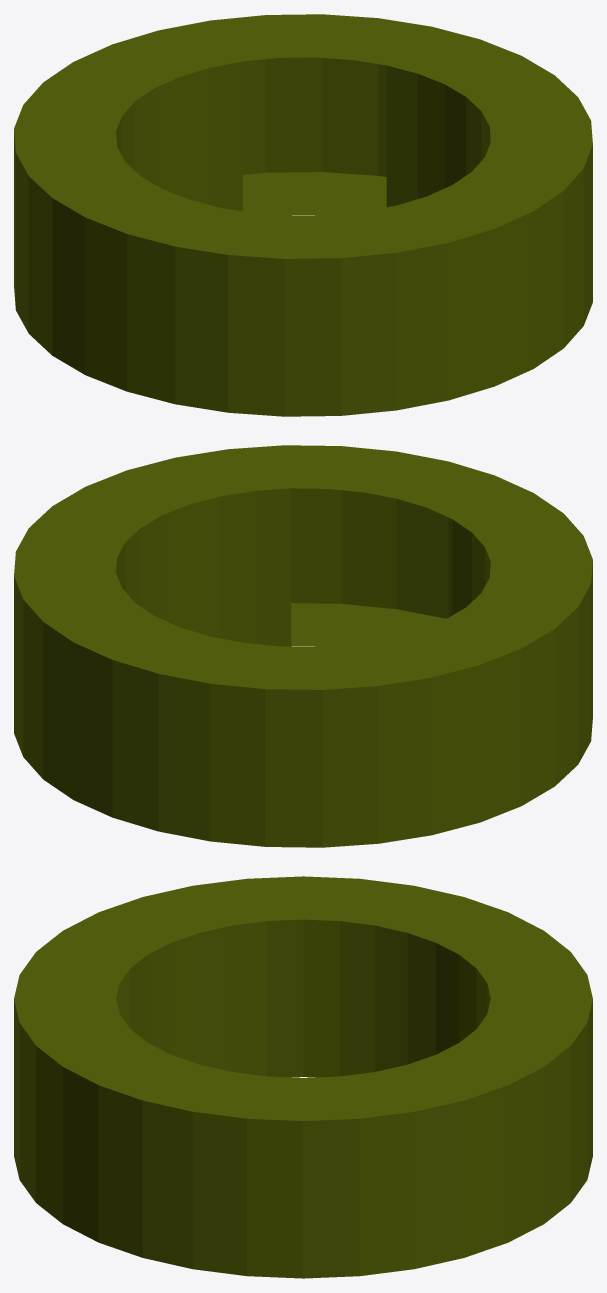
File: heloma.gltf
3 views of the same model, one above another, from view 1: azimuth 30°, elevation 25°; view 2: azimuth 150°, elevation 25°; view 3: azimuth 270°, elevation 25° (orthographic).
Visible parts, largest first — view 1: Cilindro.001; view 2: Cilindro.001; view 3: Cilindro.001.
Part boxes in pixels (x1=…): Cilindro.001: x1=14, y1=14, x2=592, y2=416; Cilindro.001: x1=14, y1=445, x2=592, y2=847; Cilindro.001: x1=14, y1=876, x2=592, y2=1278.
Size of the model in its own units: 1.53 by 0.4585 by 1.53.
